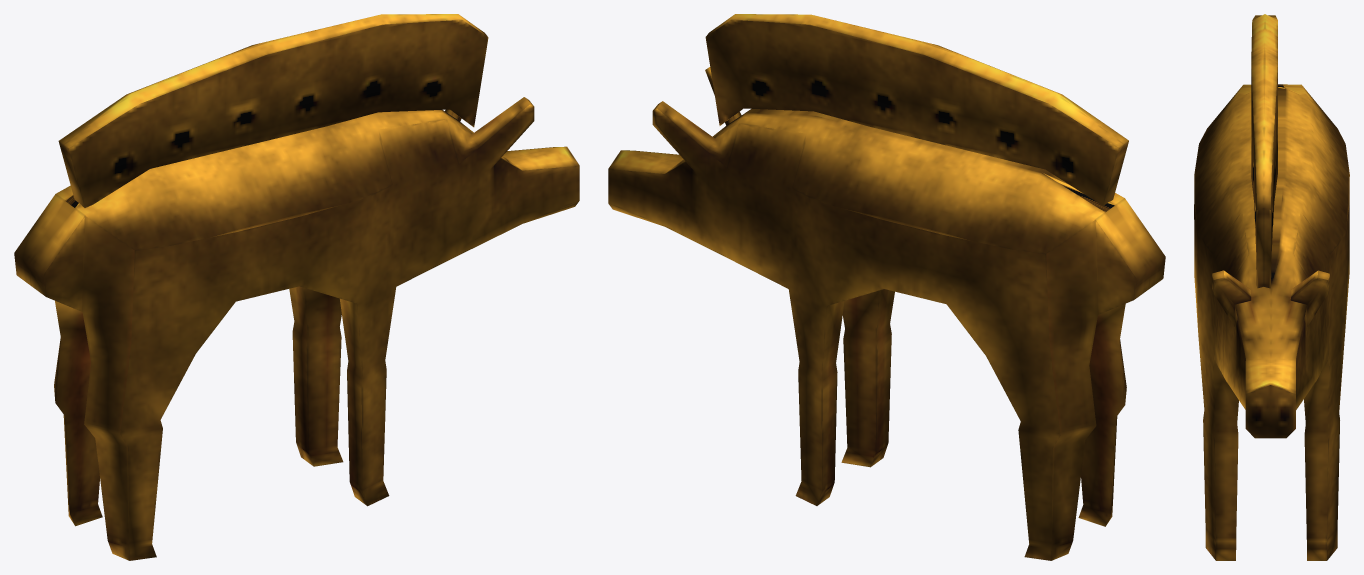
The model's file is gaul_standard_boar.dae.
The picture shows the model from 3 angles, left to right: view 1: azimuth 30°, elevation 25°; view 2: azimuth 150°, elevation 25°; view 3: azimuth 270°, elevation 25°; orthographic projection.
Visible parts, largest first — view 1: celt_boar.004; view 2: celt_boar.004; view 3: celt_boar.004.
Boxes of the visible parts, x1=… form: celt_boar.004: x1=14, y1=14, x2=579, y2=560; celt_boar.004: x1=608, y1=14, x2=1165, y2=560; celt_boar.004: x1=1194, y1=14, x2=1349, y2=560.
Size of the model in its own units: 1.07 by 0.2726 by 0.8769.
